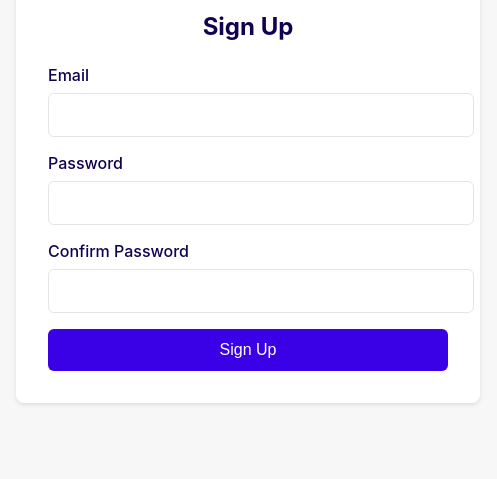
Test: SignUp Component › validates password match
In the field labelled "Email": (261, 115) left=48, top=93, right=474, bottom=137, type "test@example.com"
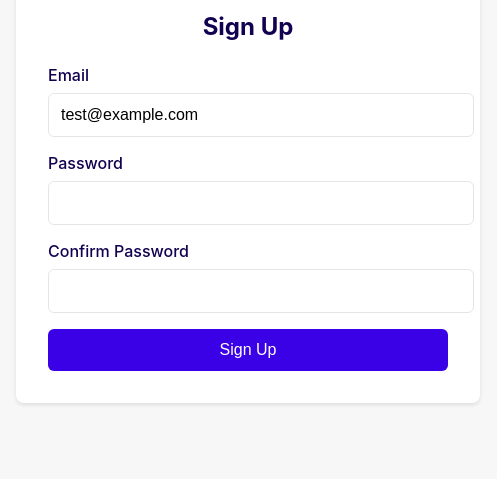
In the password field labelled "Password": (261, 203) left=48, top=181, right=474, bottom=225, type "password123"
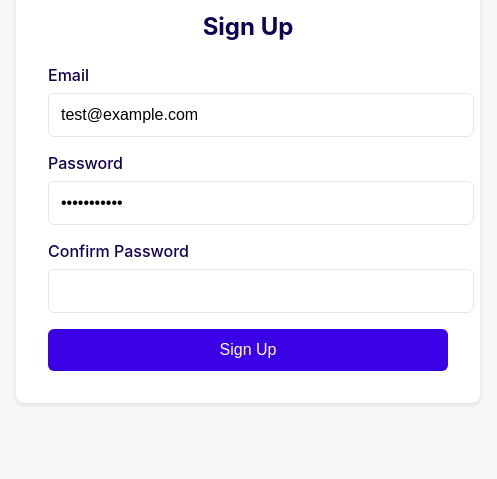
In the password field labelled "Confirm Password": (261, 291) left=48, top=269, right=474, bottom=313, type "password456"
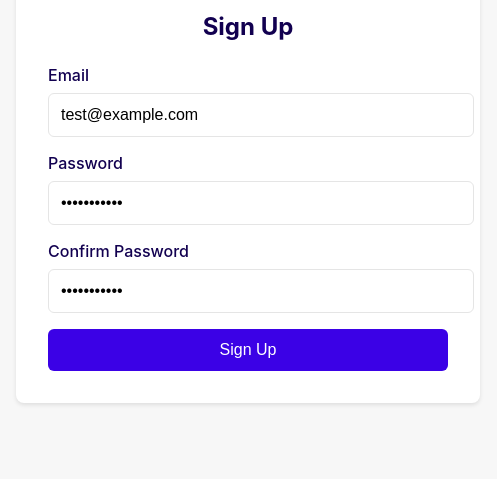
Submit the form, box left=48, top=65, right=448, bottom=371
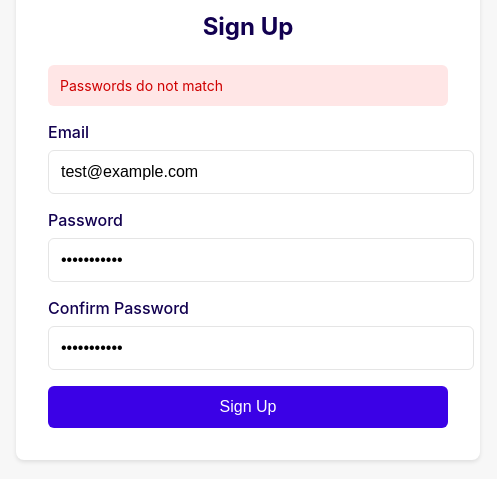
Result: the text "Passwords do not match" is shown at left=48, top=65, right=448, bottom=106
